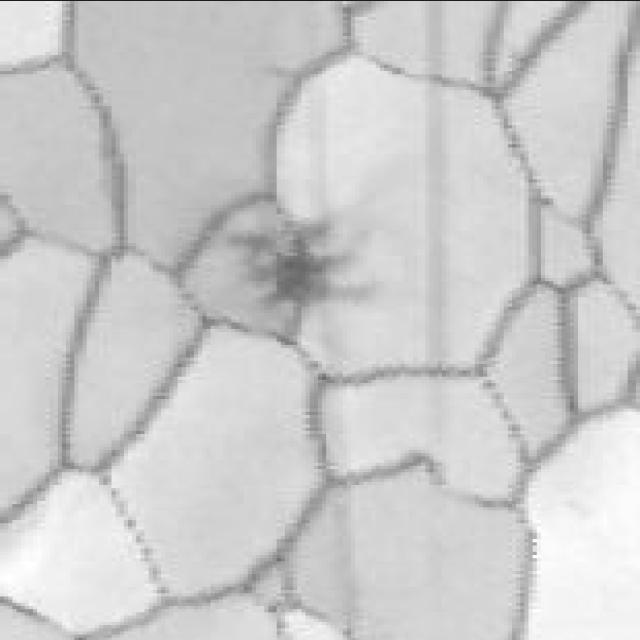good_void: (229, 212, 380, 309)
